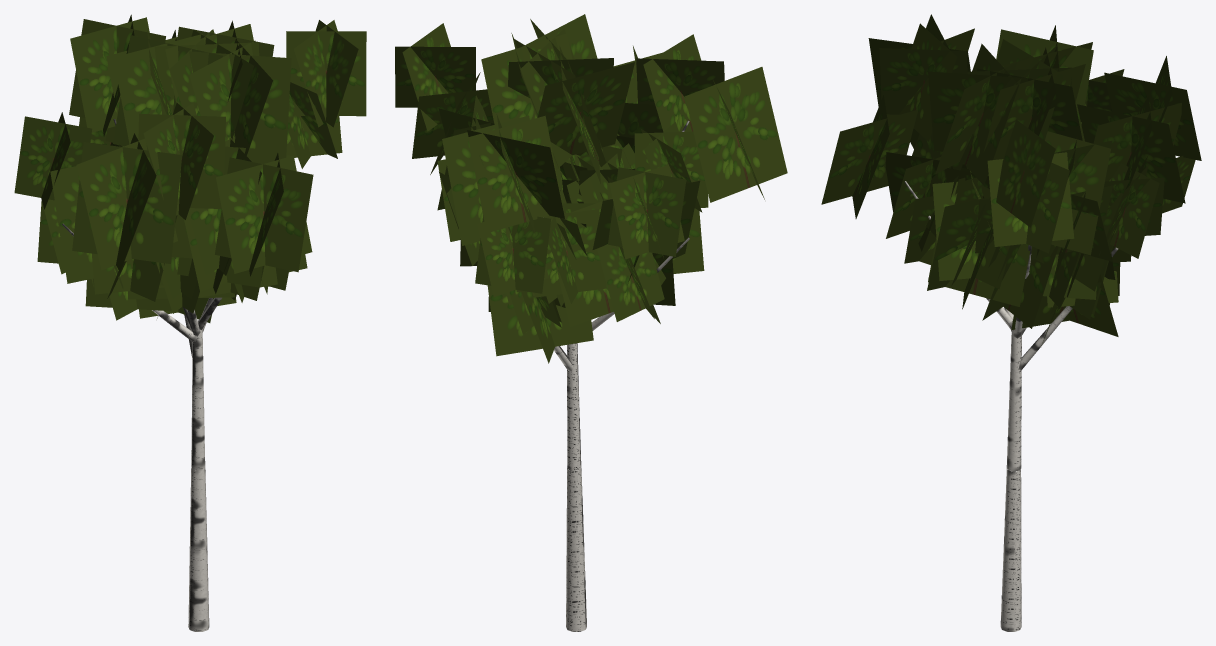
Rendered from SM_Art_Veg_Birch_0.gltf.
3 renders of one model, left to right at view 1: azimuth 30°, elevation 25°; view 2: azimuth 150°, elevation 25°; view 3: azimuth 270°, elevation 25°, orthographic.
Visible parts, largest first — view 1: SM_Art_Veg_Birch_0; view 2: SM_Art_Veg_Birch_0; view 3: SM_Art_Veg_Birch_0.
Boxes of the visible parts, x1,y1,x2,y2 form: SM_Art_Veg_Birch_0: (14,14,366,631); SM_Art_Veg_Birch_0: (395,14,787,631); SM_Art_Veg_Birch_0: (821,14,1201,631).
Bounding box in the file's own units: 5.28 × 8.65 × 5.22.
2 materials, 2 textured.
